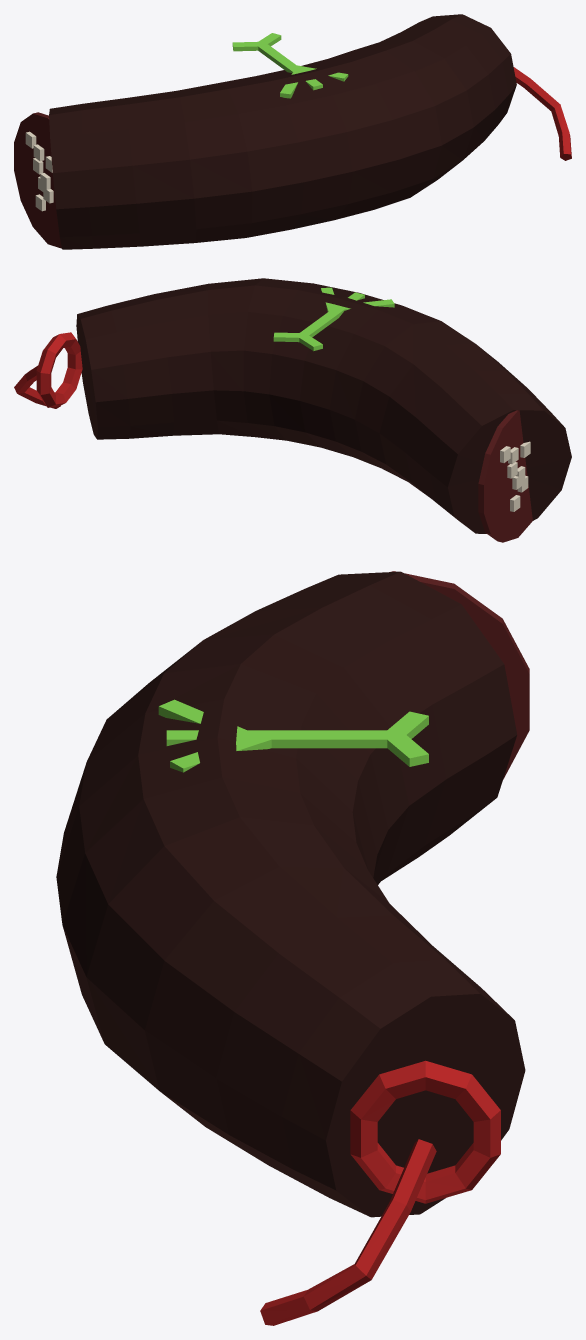
The model's file is VFP_Secret_BogBloodSausage.obj.
3 views of the same model, one above another, from view 1: azimuth 30°, elevation 25°; view 2: azimuth 150°, elevation 25°; view 3: azimuth 270°, elevation 25° (orthographic). The views are drawn at different scales.
Visible parts, largest first — view 1: Sausage, Cut, Rune, Tie, Cut_fat; view 2: Sausage, Cut, Tie, Rune, Cut_fat; view 3: Sausage, Tie, Rune, Cut.
Part boxes in pixels (left/top/right/bottom): Sausage: left=49, top=14, right=516, bottom=249; Cut: left=14, top=112, right=61, bottom=248; Rune: left=232, top=33, right=348, bottom=98; Tie: left=513, top=67, right=571, bottom=160; Cut_fat: left=25, top=131, right=53, bottom=211; Sausage: left=76, top=278, right=571, bottom=533; Cut: left=478, top=410, right=532, bottom=542; Tie: left=14, top=332, right=82, bottom=408; Rune: left=273, top=287, right=394, bottom=351; Cut_fat: left=500, top=441, right=530, bottom=511; Sausage: left=56, top=571, right=525, bottom=1217; Tie: left=260, top=1060, right=500, bottom=1325; Rune: left=158, top=699, right=428, bottom=772; Cut: left=391, top=571, right=529, bottom=779.
Bounding box in the file's own units: 0.3862 × 0.1147 × 0.1498.
